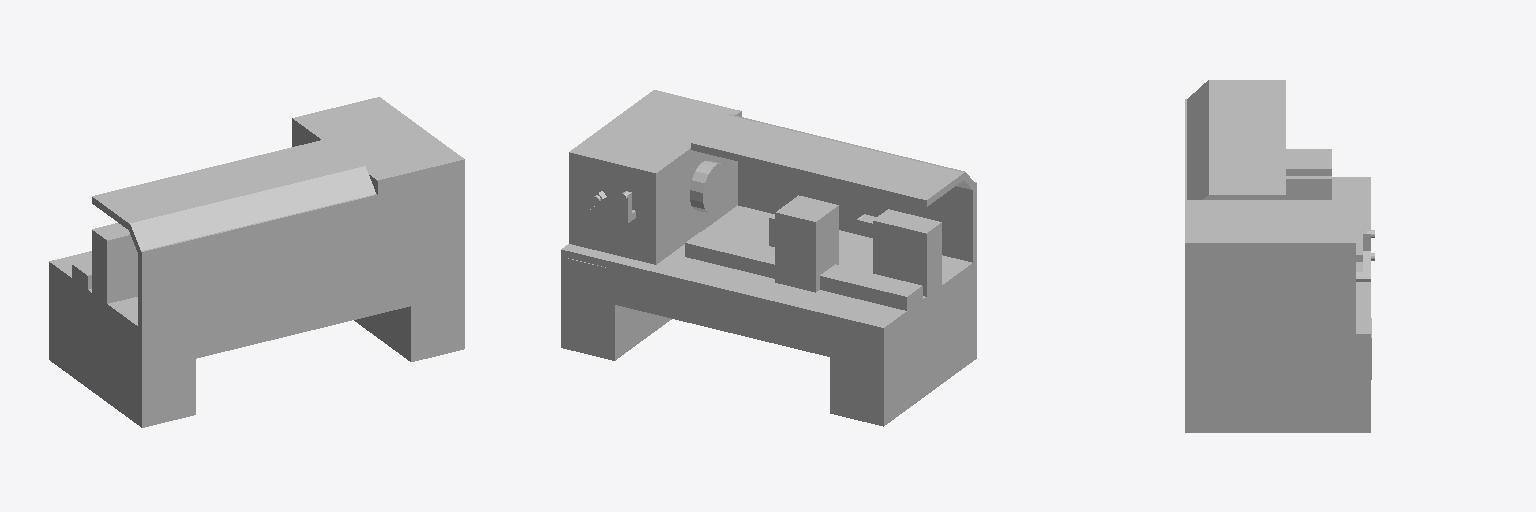
Rendered from tour_tradi_v2.obj.
3 renders of one model, left to right at view 1: azimuth 30°, elevation 25°; view 2: azimuth 150°, elevation 25°; view 3: azimuth 270°, elevation 25°, orthographic.
Visible parts, largest first — view 1: cube; view 2: cube, hexadecagon; view 3: cube.
Part boxes in pixels (x1,y1,x2,y2): cube: (49, 97, 464, 427); cube: (561, 90, 976, 426); hexadecagon: (592, 161, 727, 212); cube: (1185, 80, 1371, 432).
Size of the model in its own units: 3 by 1.74 by 1.53.